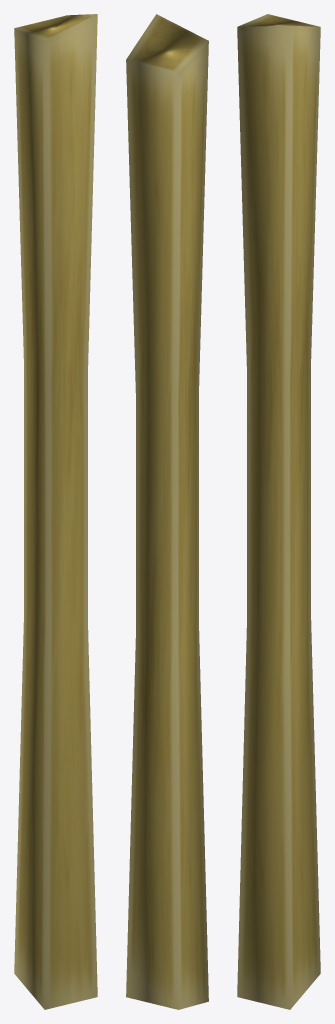
Rendered from assets_stick1.fbx.
3 renders of one model, left to right at view 1: azimuth 30°, elevation 25°; view 2: azimuth 150°, elevation 25°; view 3: azimuth 330°, elevation 25°, orthographic.
Parts seen in each view (by area): view 1: assets_stick1; view 2: assets_stick1; view 3: assets_stick1.
Part boxes in pixels (x1,y1,x2,y2): assets_stick1: [14, 14, 97, 1009]; assets_stick1: [126, 14, 208, 1009]; assets_stick1: [237, 14, 320, 1009].
Size of the model in its own units: 0.2503 by 4.44 by 0.2503.
